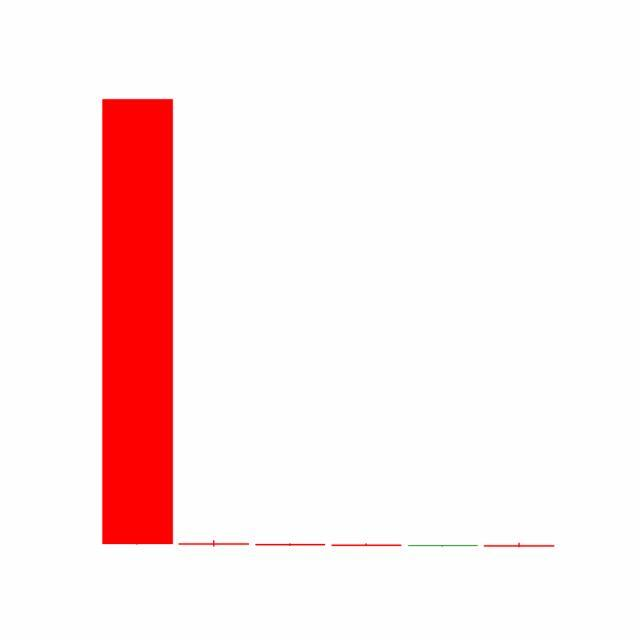Hanging Man: (404, 546, 482, 548)
